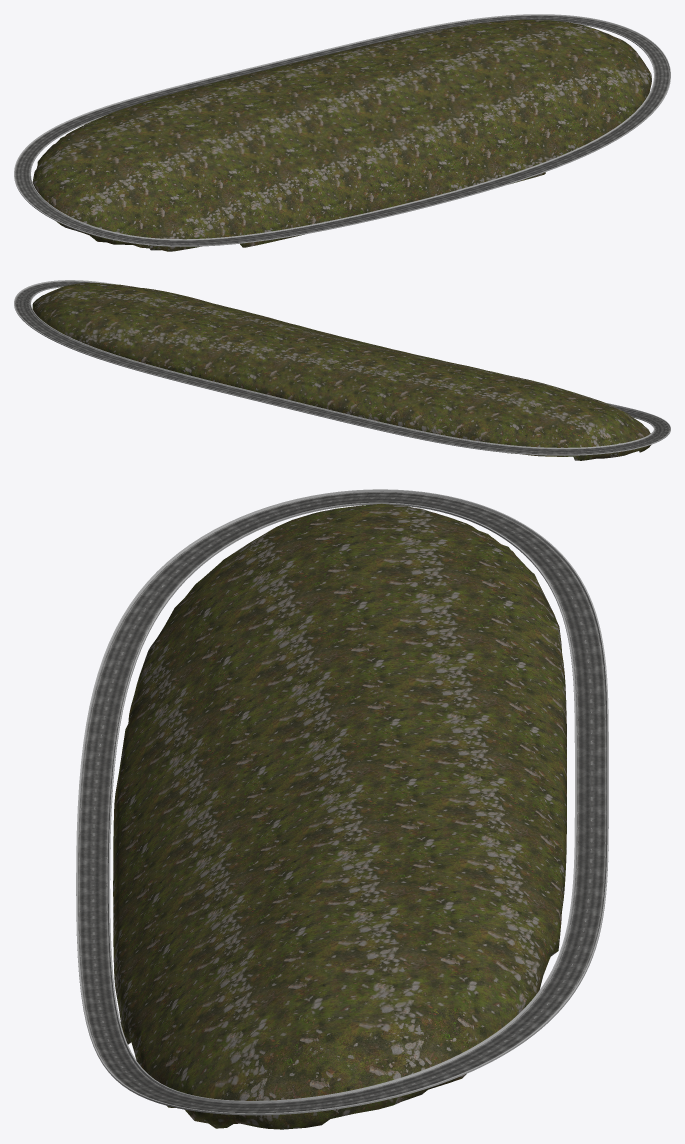
File: road2.glb
The picture shows the model from 3 angles, top to bottom: view 1: azimuth 30°, elevation 25°; view 2: azimuth 150°, elevation 25°; view 3: azimuth 270°, elevation 25°; orthographic projection. The views are drawn at different scales.
Visible parts, largest first — view 1: map; view 2: map; view 3: map.
Part boxes in pixels (x1=…): map: x1=14, y1=14, x2=670, y2=251; map: x1=14, y1=280, x2=670, y2=460; map: x1=76, y1=489, x2=608, y2=1129.
Size of the model in its own units: 582 by 72 by 213.
Materials: 3 (3 with a texture image).
